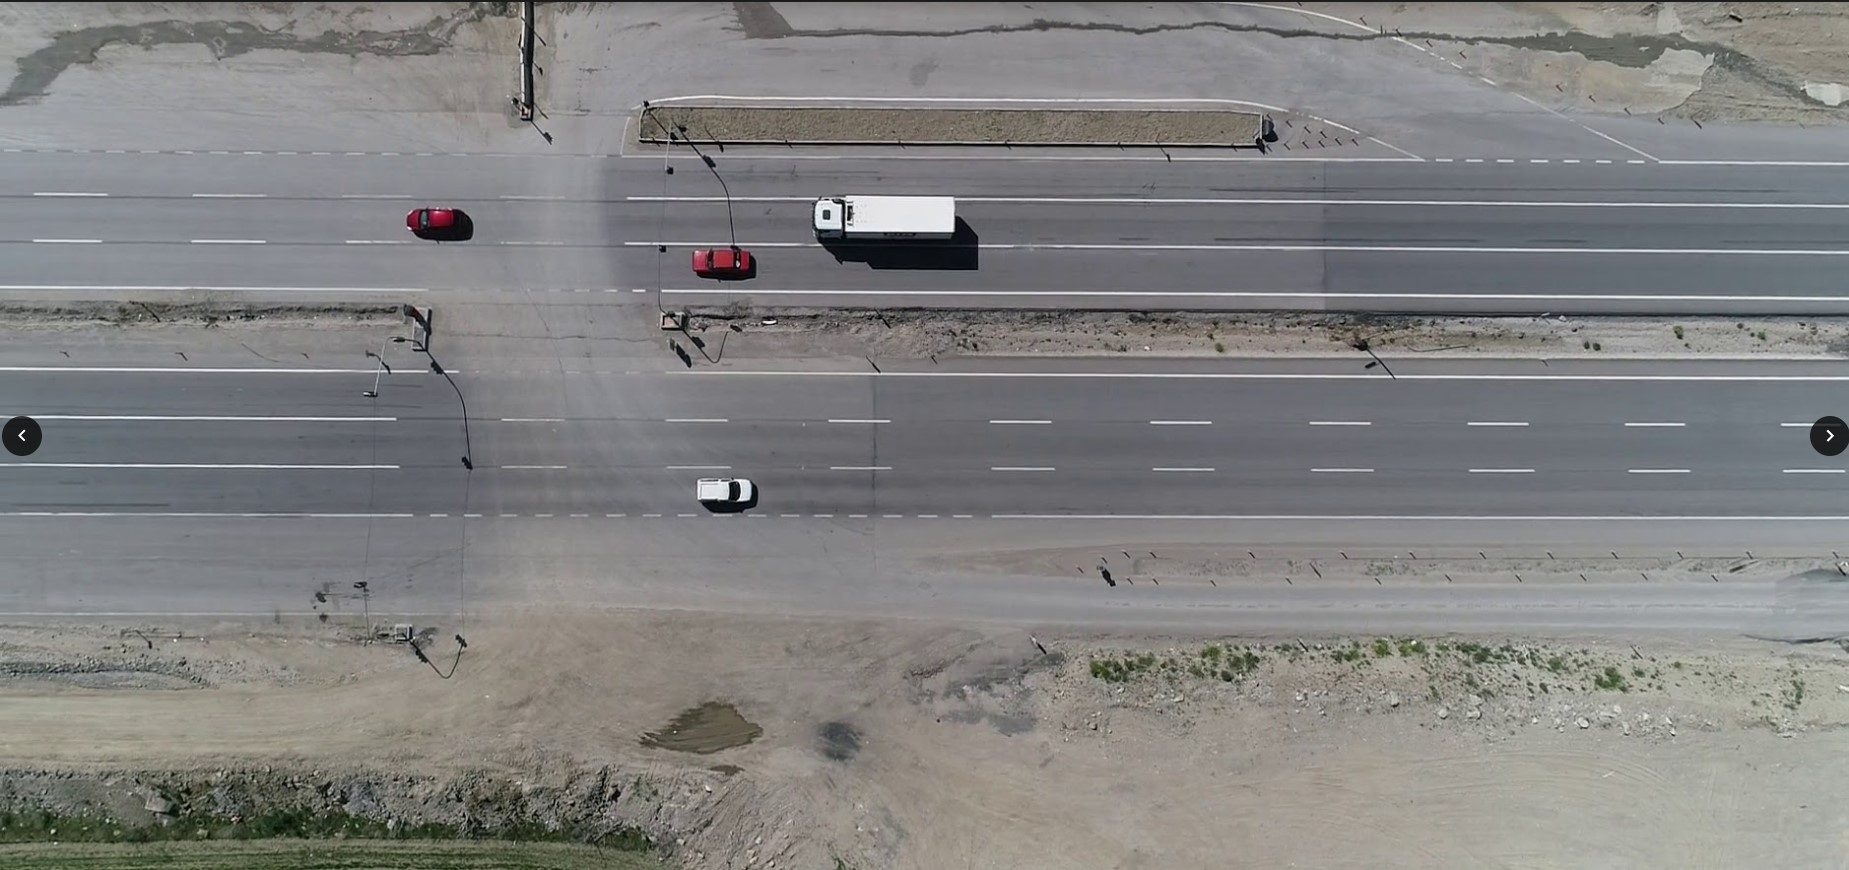araba: (402, 204, 468, 238), (690, 242, 748, 279), (698, 474, 758, 506)
kamyon: (812, 193, 959, 240)
